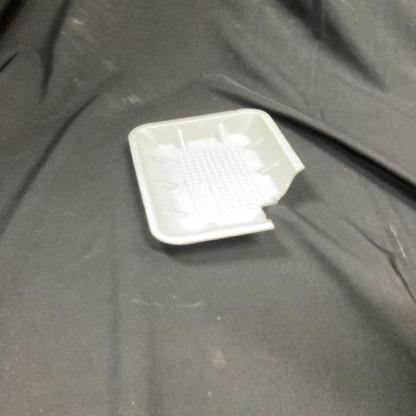Glass Cup: (128, 107, 307, 244), (128, 109, 305, 245)
